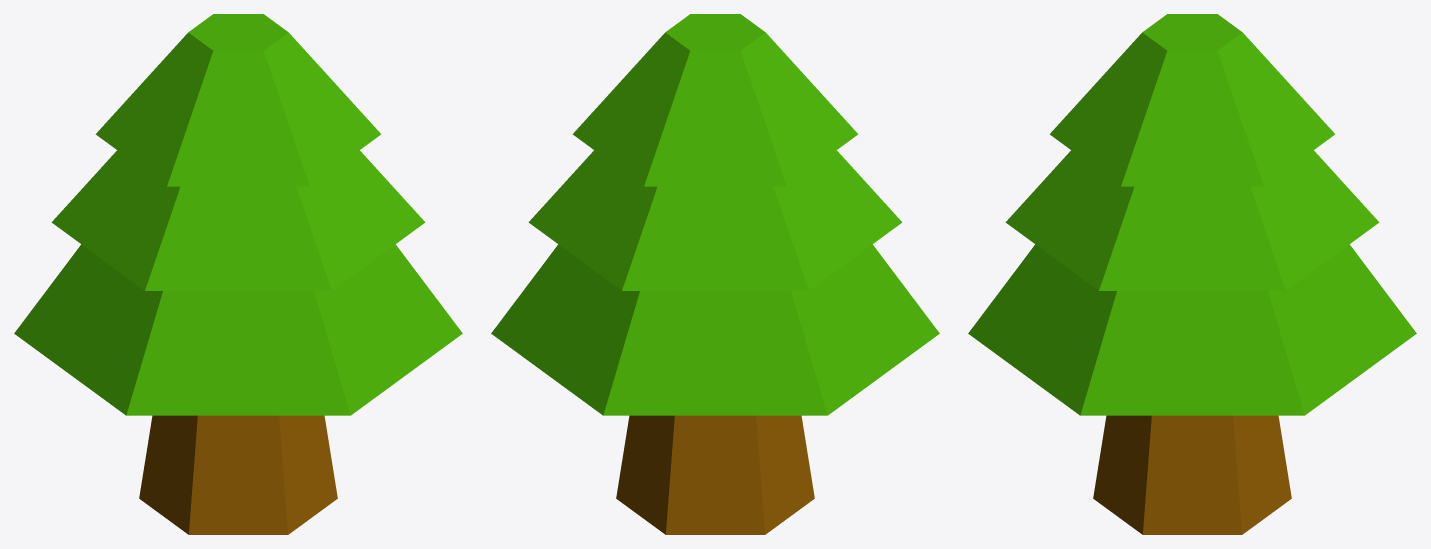
File: Tree.glb
The picture shows the model from 3 angles, left to right: view 1: azimuth 30°, elevation 25°; view 2: azimuth 150°, elevation 25°; view 3: azimuth 270°, elevation 25°; orthographic projection.
Parts seen in each view (by area): view 1: Cylinder.001, Cylinder.002, Cylinder.003, Cylinder; view 2: Cylinder.001, Cylinder.002, Cylinder.003, Cylinder; view 3: Cylinder.001, Cylinder.002, Cylinder.003, Cylinder.
Boxes of the visible parts, box(x1,y1,x2,y2) form: Cylinder.001: box(14, 244, 462, 415); Cylinder.002: box(51, 150, 425, 290); Cylinder.003: box(95, 14, 381, 186); Cylinder: box(139, 415, 337, 534); Cylinder.001: box(491, 244, 939, 415); Cylinder.002: box(528, 150, 902, 290); Cylinder.003: box(572, 14, 858, 186); Cylinder: box(616, 415, 814, 534); Cylinder.001: box(968, 244, 1416, 415); Cylinder.002: box(1005, 150, 1379, 290); Cylinder.003: box(1049, 14, 1335, 186); Cylinder: box(1093, 415, 1291, 534).
Size of the model in its own units: 1.96 by 2.59 by 2.26.
